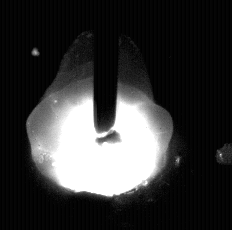arame: (94, 0, 118, 144)
poca: (26, 0, 175, 230)
